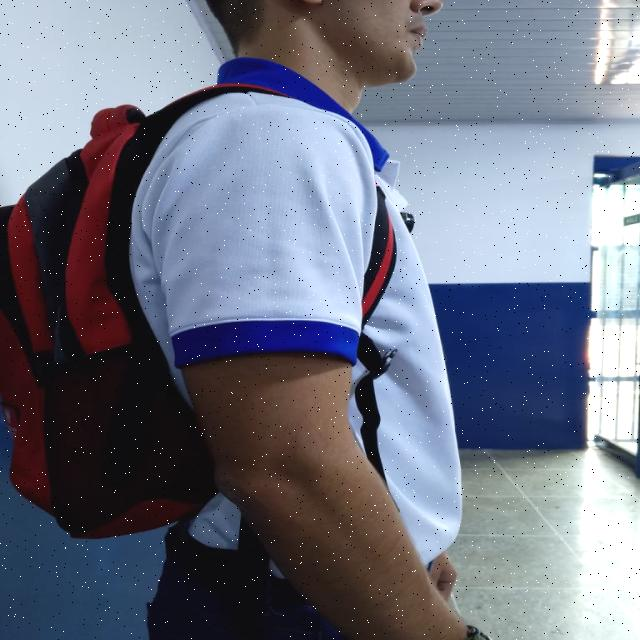uniforme_superior: (132, 58, 464, 566)
